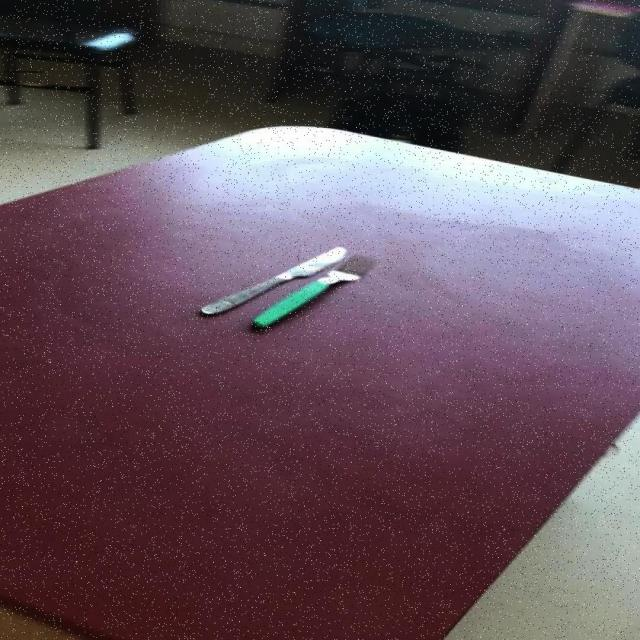Fork: (253, 252, 378, 328)
Knife: (200, 244, 350, 315)
